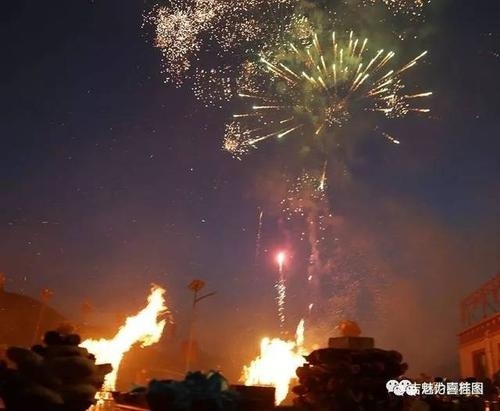fire: (79, 281, 171, 406), (239, 316, 317, 404)
